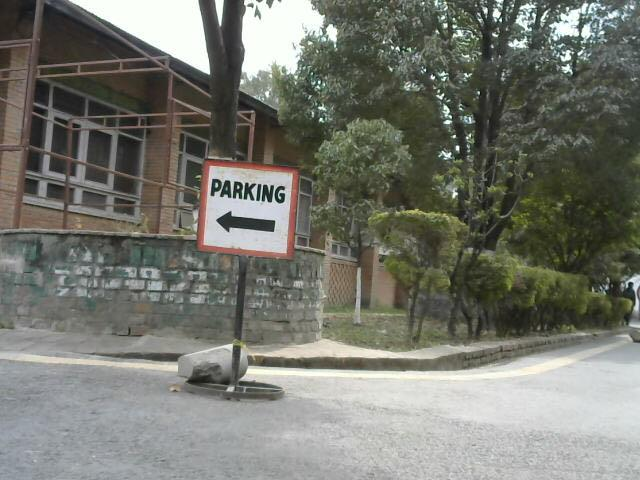Road: (10, 356, 640, 480)
Traffic sign: (179, 159, 332, 425)
Tree: (333, 0, 640, 338)
